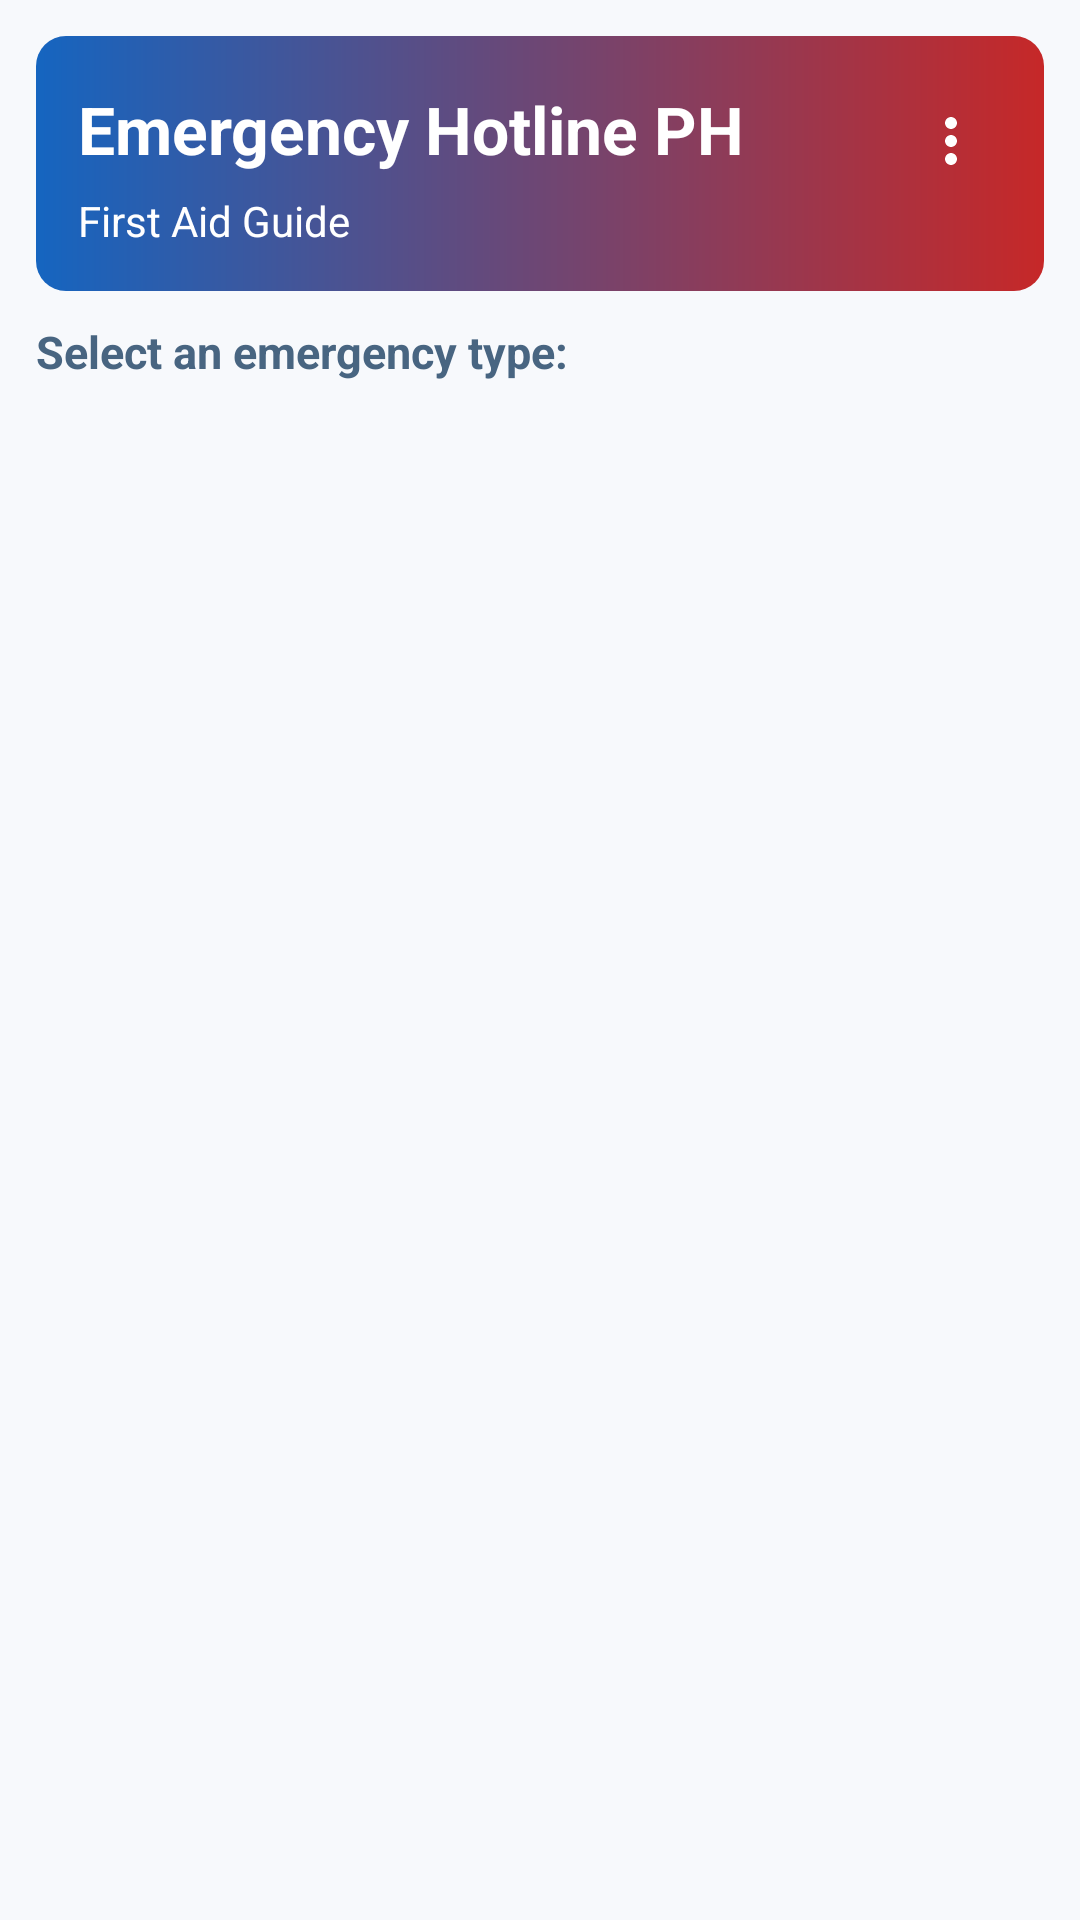

Icons on this 1080 x 1920 Android screen, each with the point to tap as [x,y]:
More options: [951,141]
